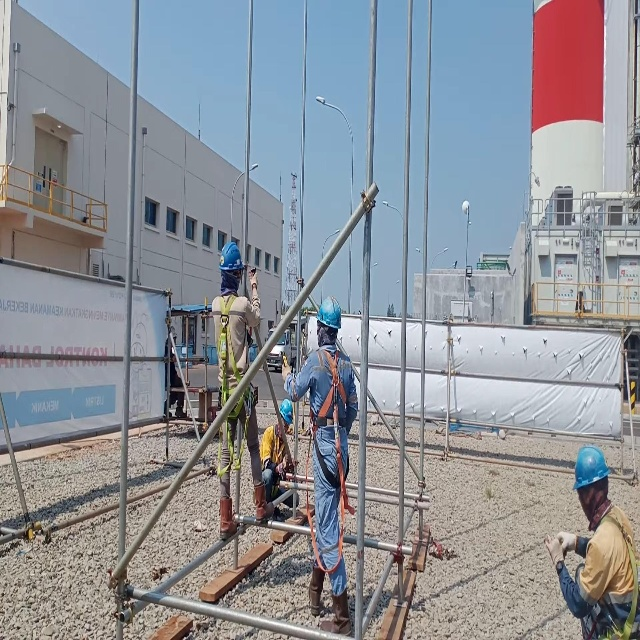Arnes_seguridad: (304, 342, 355, 575), (211, 292, 252, 478)
